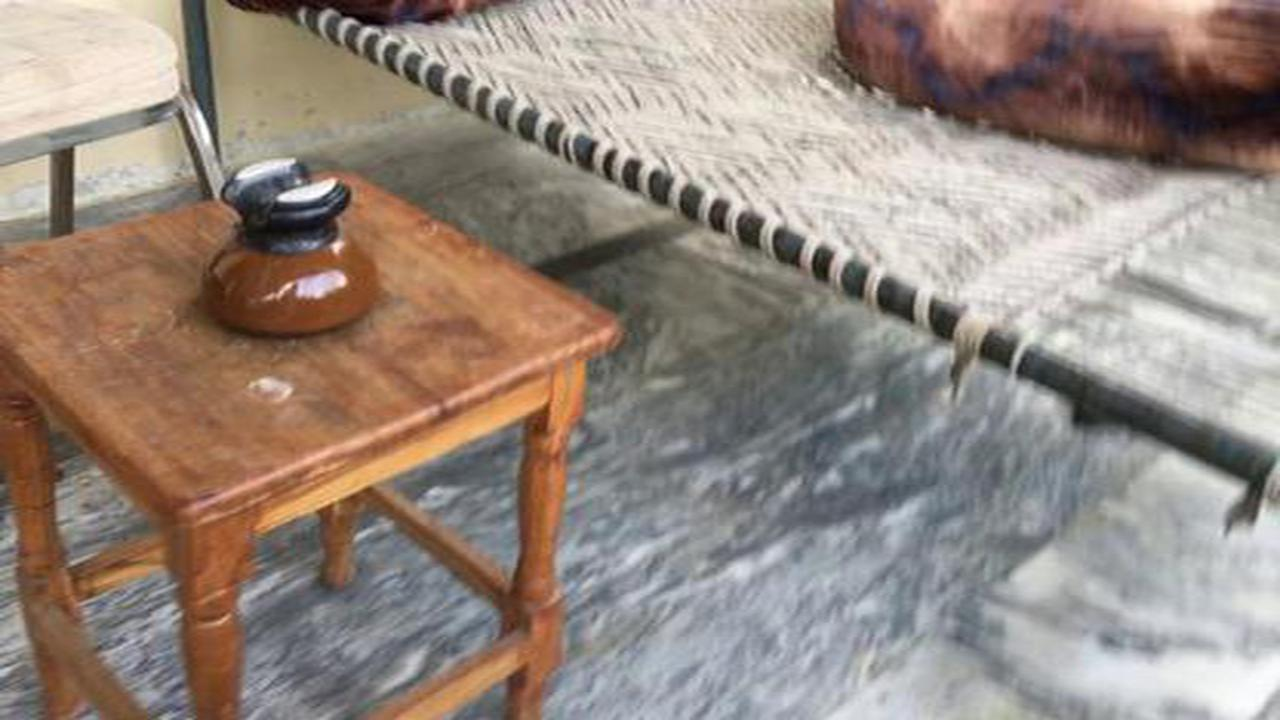insulator_pin: (193, 139, 391, 350)
